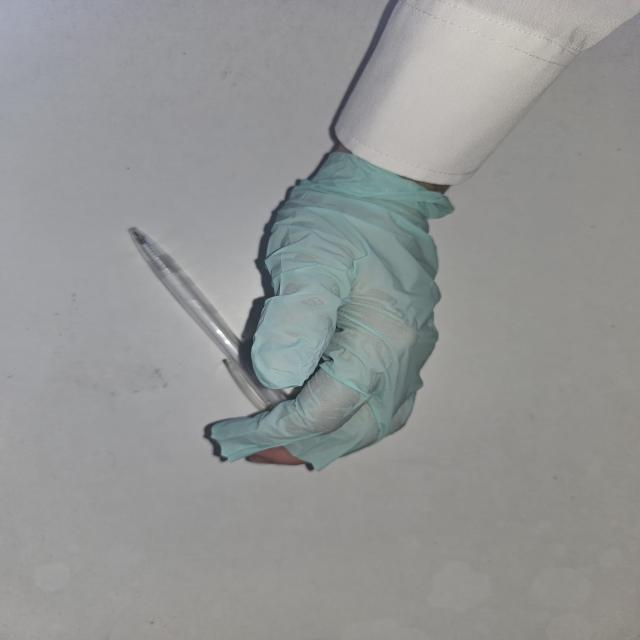gloves_damaged: (203, 142, 455, 464)
